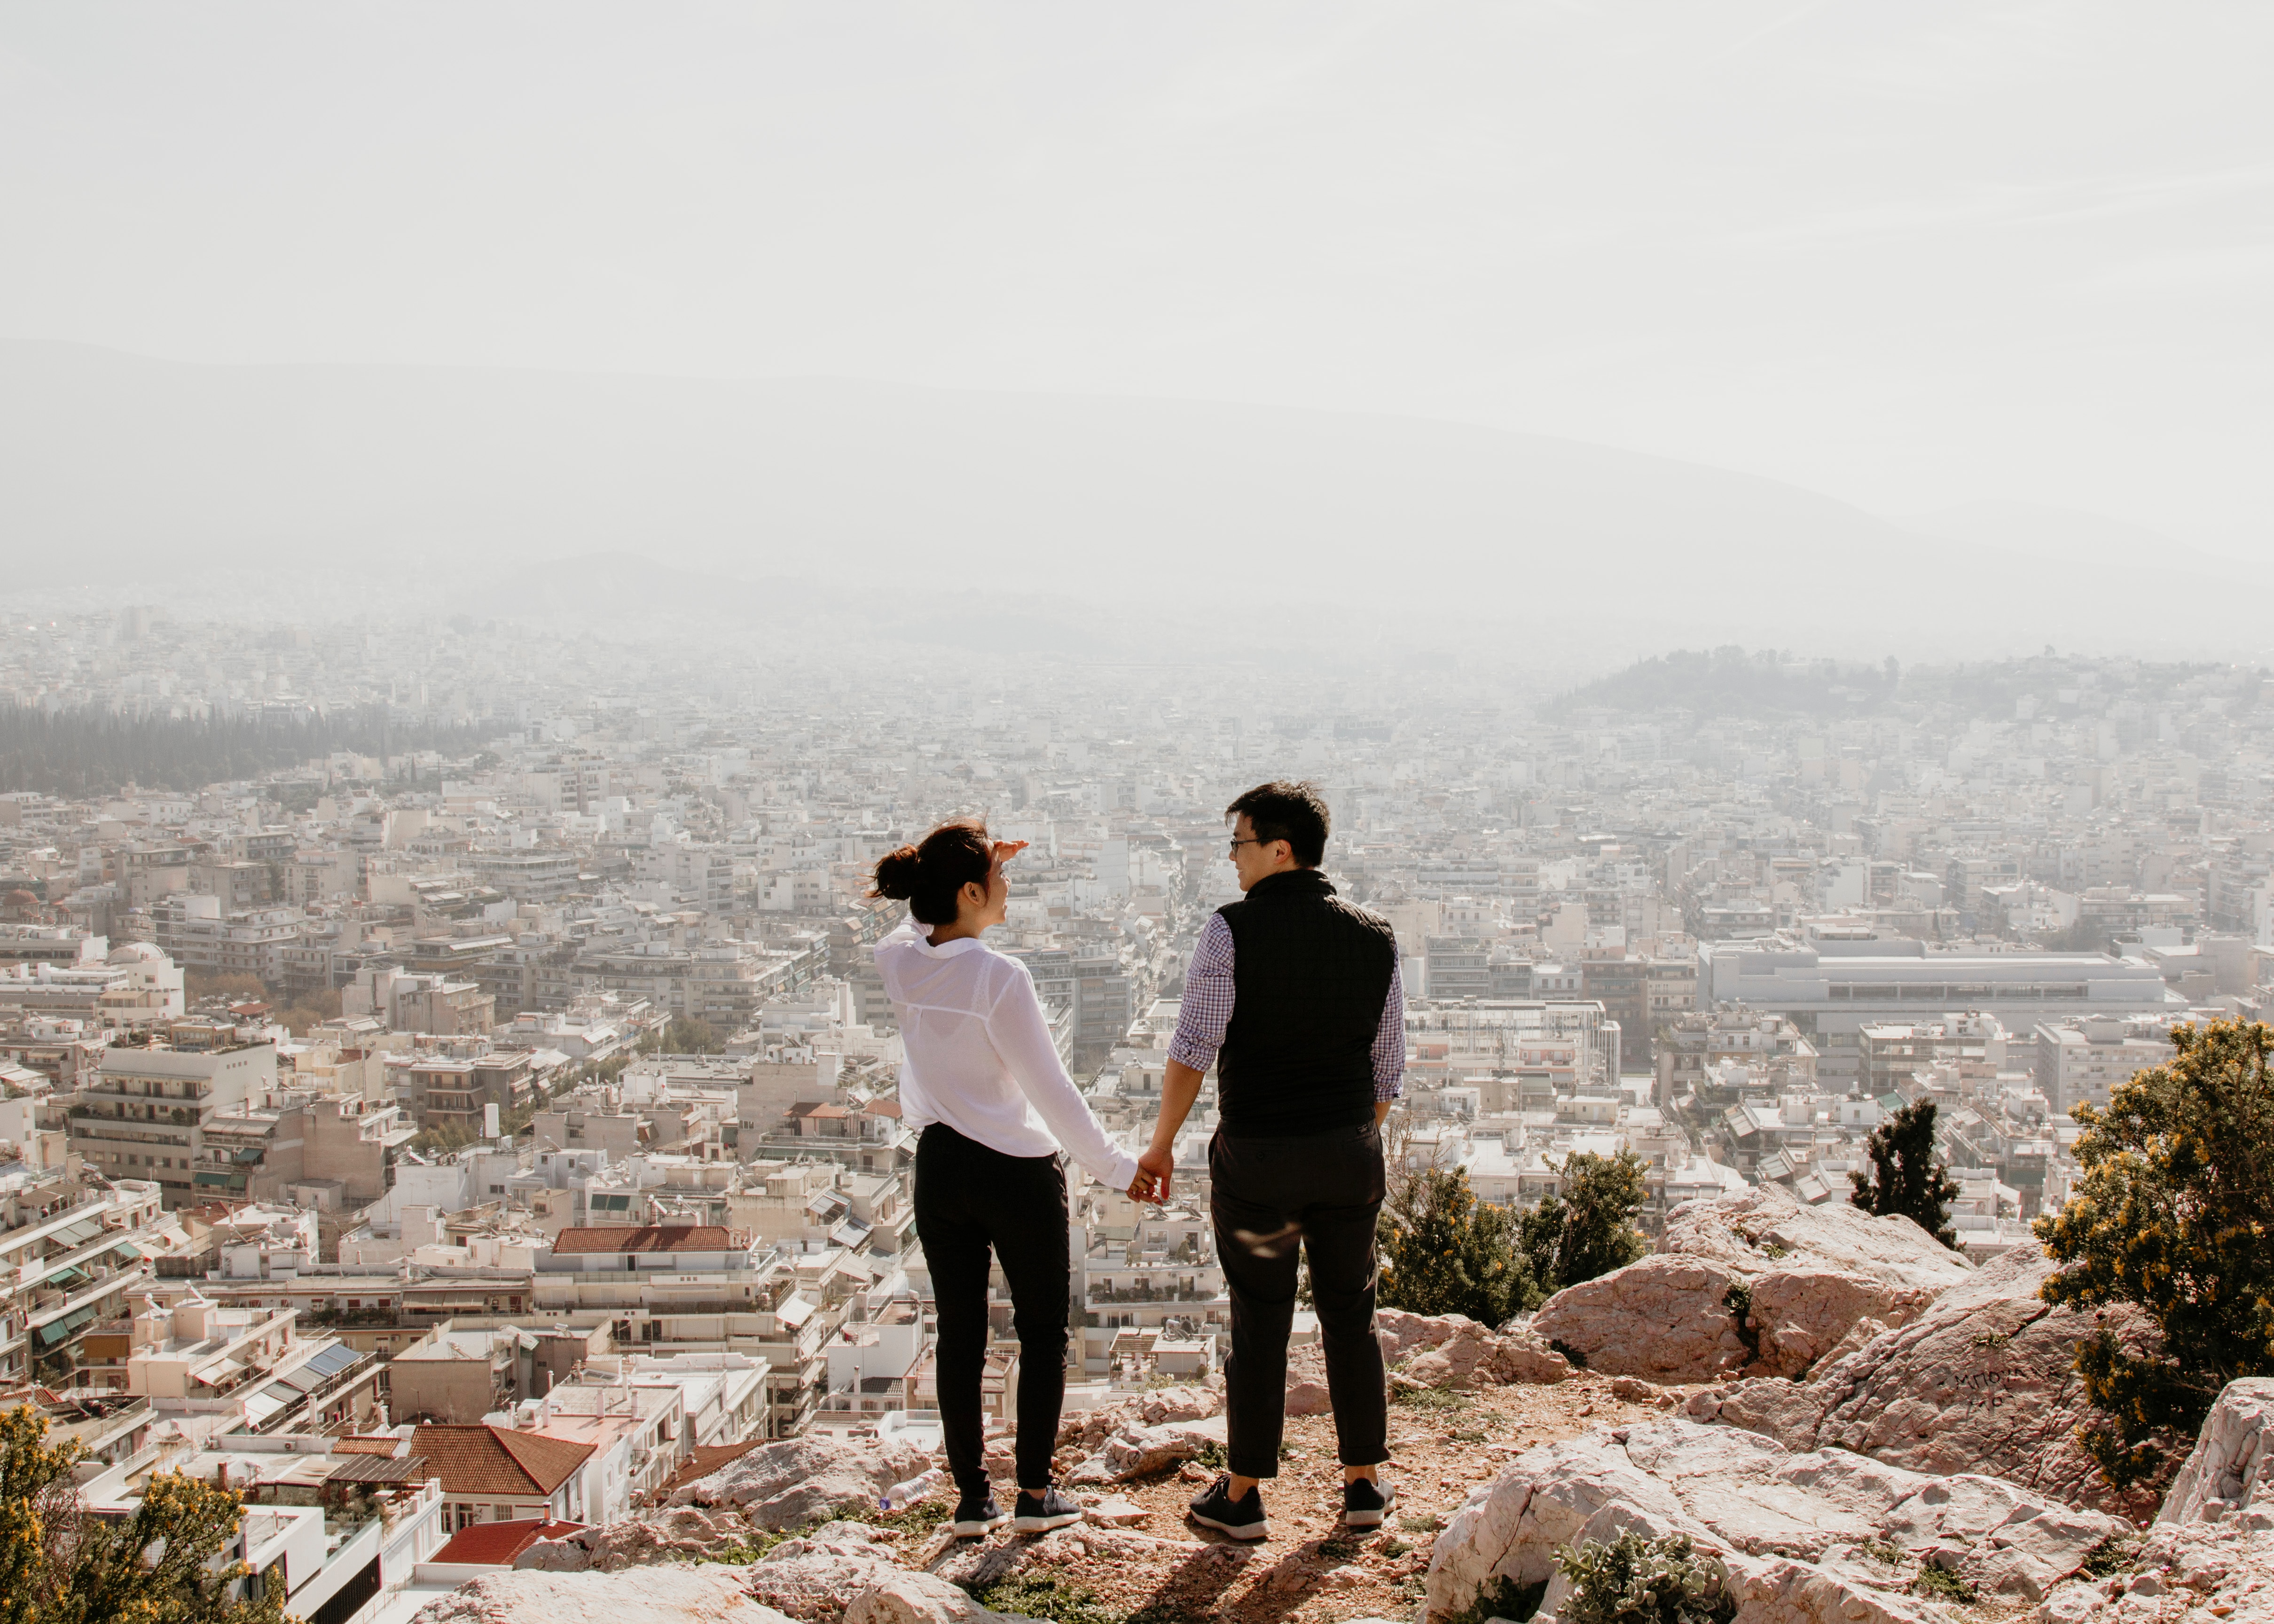person: (1126, 776, 1432, 1546), (868, 820, 1144, 1559)
